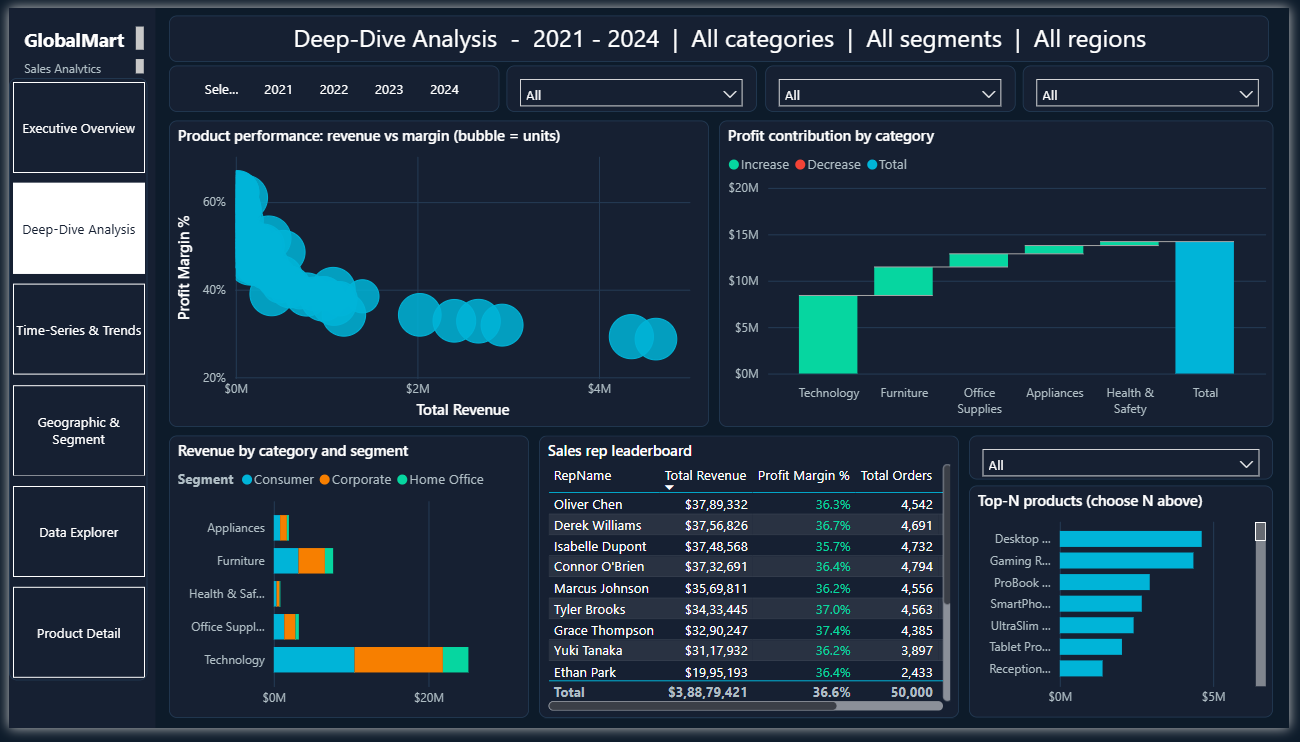

What the dashboard file says about the page in this screenshot:
{"tool":"powerbi","page":{"name":"Deep-Dive Analysis","canvas":[1280,720],"ordinal":1},"visuals":[{"type":"textbox","box":[0,0,146,720],"z":100},{"type":"textbox","box":[10,14,130,34],"z":200},{"type":"textbox","box":[10,46,130,24],"z":300},{"type":"card","fields":{"Values":["_Measures.Deep Dive Title"]},"box":[160,8,1100,46],"z":500},{"type":"slicer","fields":{"Values":["DimDate.Year"]},"box":[160,58,330,46],"z":600},{"type":"slicer","fields":{"Values":["DimProduct.Category"]},"box":[498,58,250,46],"z":700},{"type":"slicer","fields":{"Values":["DimCustomer.Segment"]},"box":[756,58,250,46],"z":800},{"type":"slicer","fields":{"Values":["DimRegion.Region"]},"box":[1014,58,250,46],"z":900},{"type":"scatterChart","title":"Product performance: revenue vs margin (bubble = units)","fields":{"Category":["DimProduct.ProductName"],"Size":["_Measures.Units Sold"],"X":["_Measures.Total Revenue"],"Y":["_Measures.Profit Margin %"]},"box":[160,112,540,306],"z":1000},{"type":"waterfallChart","title":"Profit contribution by category","fields":{"Category":["DimProduct.Category"],"Y":["_Measures.Total Profit"]},"box":[710,112,554,306],"z":1100},{"type":"barChart","title":"Revenue by category and segment","fields":{"Category":["DimProduct.Category"],"Series":["DimCustomer.Segment"],"Y":["_Measures.Total Revenue"]},"box":[160,428,360,282],"z":1200},{"type":"tableEx","title":"Sales rep leaderboard","fields":{"Values":["DimSalesRep.RepName","_Measures.Total Revenue","_Measures.Profit Margin %","_Measures.Total Orders","_Measures.SalesRep Revenue Rank"]},"box":[530,428,420,282],"z":1300},{"type":"slicer","fields":{"Values":["TopN.TopN"]},"box":[960,428,304,44],"z":1400},{"type":"clusteredBarChart","title":"Top-N products (choose N above)","fields":{"Category":["DimProduct.ProductName"],"Y":["_Measures.Total Revenue"]},"box":[960,478,304,232],"z":1500},{"type":"pageNavigator","box":[0,70.2,138.1,602.4],"z":1501}]}

Visuals, with their boxes on the page's 1280x720 design canvas (x1, y1, x2, y2). These are canvas units, not pixel positions in the 1300x742 screenshot, which may show the page scaled, cropped or inside an application window:
textbox: [0,0,146,720]
textbox: [10,14,140,48]
textbox: [10,46,140,70]
card - _Measures.Deep Dive Title: [160,8,1260,54]
slicer - DimDate.Year: [160,58,490,104]
slicer - DimProduct.Category: [498,58,748,104]
slicer - DimCustomer.Segment: [756,58,1006,104]
slicer - DimRegion.Region: [1014,58,1264,104]
"Product performance: revenue vs margin (bubble = units)" scatterChart: [160,112,700,418]
"Profit contribution by category" waterfallChart: [710,112,1264,418]
"Revenue by category and segment" barChart: [160,428,520,710]
"Sales rep leaderboard" tableEx: [530,428,950,710]
slicer - TopN.TopN: [960,428,1264,472]
"Top-N products (choose N above)" clusteredBarChart: [960,478,1264,710]
pageNavigator: [0,70,138,673]
